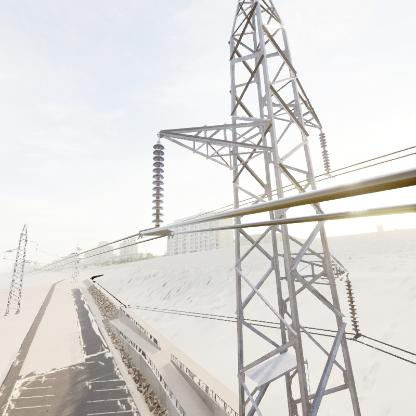insulator: (147, 141, 167, 232), (342, 277, 364, 341), (317, 132, 334, 177)
tower: (0, 221, 42, 317)
